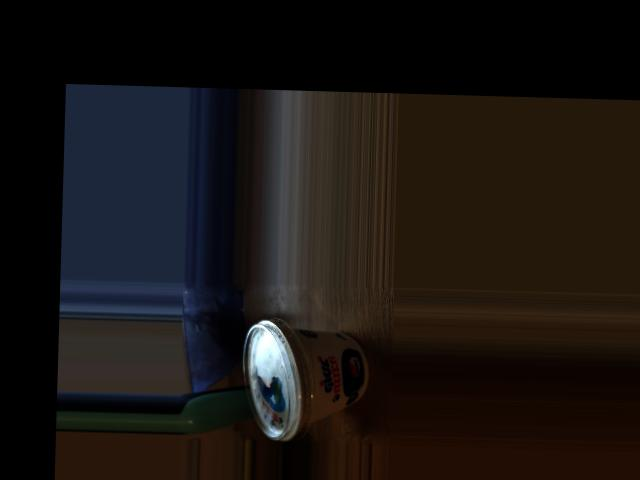cotage: (241, 325, 360, 429)
